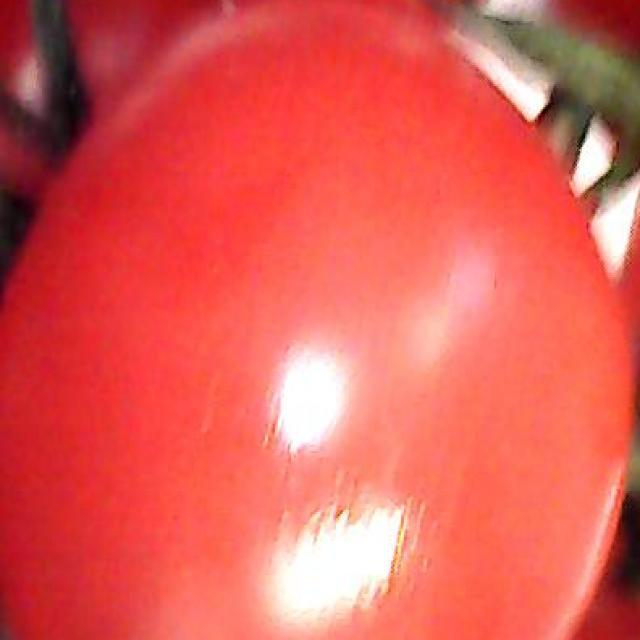Healthy: (2, 30, 639, 640)
